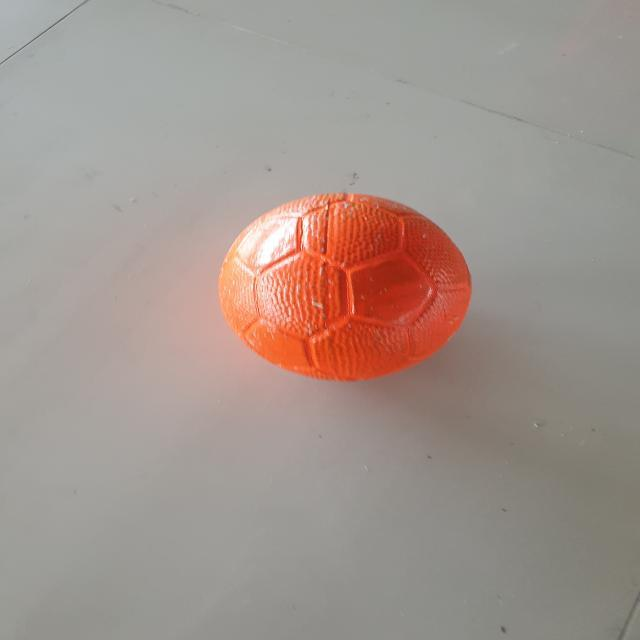bola: (208, 186, 474, 384)
